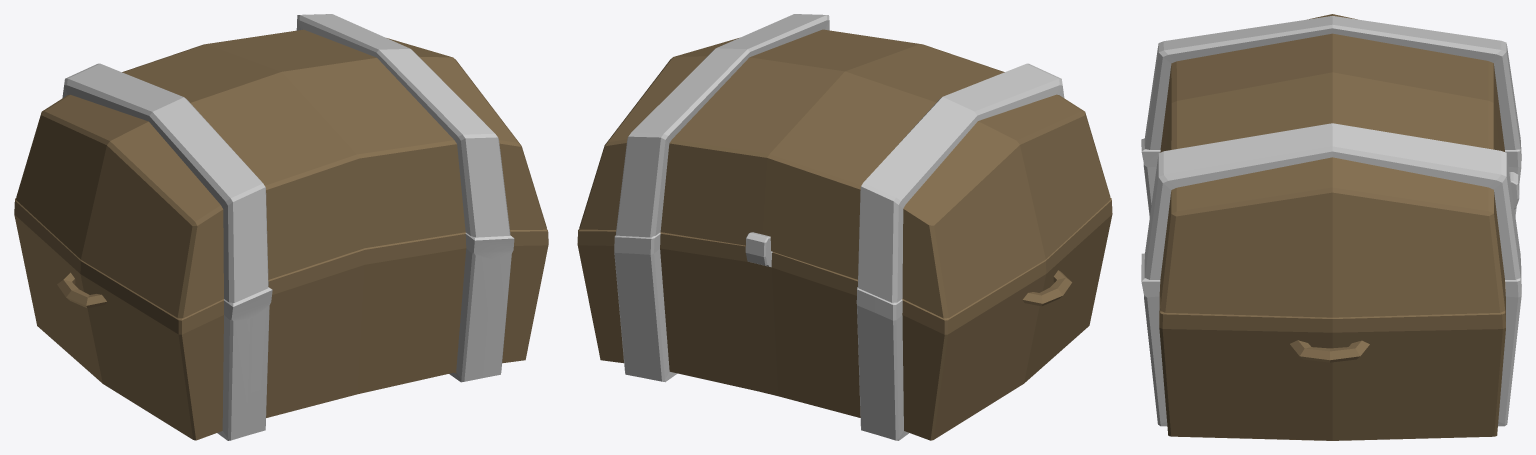
Rendered from Chest_02.fbx.
The picture shows the model from 3 angles, left to right: view 1: azimuth 30°, elevation 25°; view 2: azimuth 150°, elevation 25°; view 3: azimuth 270°, elevation 25°; orthographic projection. The views are drawn at different scales.
Visible parts, largest first — view 1: Bovenkant, Onderkant, Handvat1; view 2: Bovenkant, Onderkant, Handvat1; view 3: Bovenkant, Onderkant, Handvat.
Part boxes in pixels (bbox=[...]): Bovenkant: bbox=[16, 14, 546, 318]; Onderkant: bbox=[14, 198, 548, 440]; Handvat1: bbox=[57, 272, 106, 308]; Bovenkant: bbox=[579, 14, 1110, 318]; Onderkant: bbox=[577, 198, 1112, 440]; Handvat1: bbox=[1023, 270, 1071, 306]; Bovenkant: bbox=[1144, 14, 1520, 317]; Onderkant: bbox=[1141, 138, 1521, 440]; Handvat: bbox=[1290, 340, 1369, 362].
Bounding box in the file's own units: 128 × 77.66 × 93.5.
